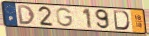1: (82, 8, 93, 30)
2: (37, 5, 55, 27)
9: (94, 8, 111, 30)
D: (16, 5, 36, 26), (113, 10, 131, 31)
G: (55, 7, 75, 28)
